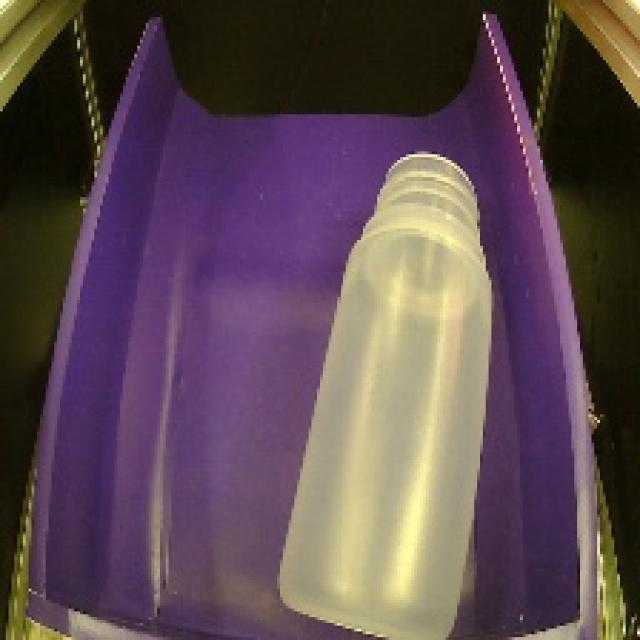plastic: (265, 140, 520, 640)
